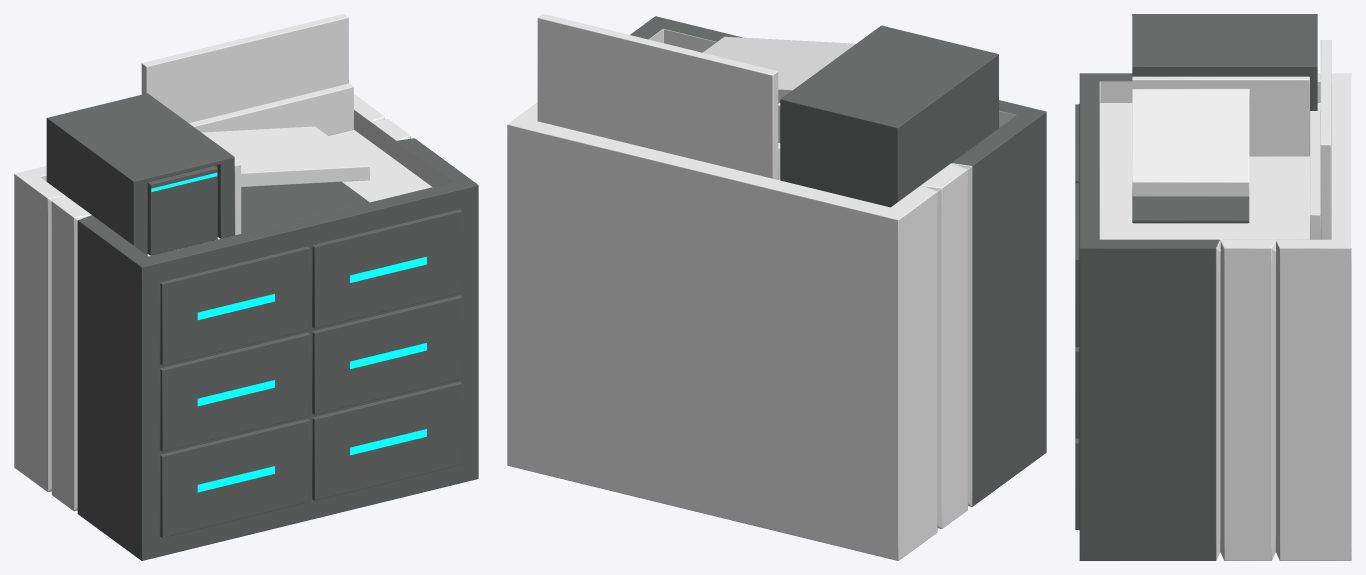
File: PrinterStorageModule.fbx
3 views of the same model, side by side, from view 1: azimuth 30°, elevation 25°; view 2: azimuth 150°, elevation 25°; view 3: azimuth 270°, elevation 25° (orthographic). The views are drawn at different scales.
Visible parts, largest first — view 1: PrinterStorageModule; view 2: PrinterStorageModule; view 3: PrinterStorageModule.
Part boxes in pixels (x1,y1,x2,y2): PrinterStorageModule: (14, 14, 478, 560); PrinterStorageModule: (507, 14, 1046, 560); PrinterStorageModule: (1075, 14, 1351, 560).
Bounding box in the file's own units: 60 × 65.1 × 40.
Materials: 1 (1 with a texture image).
